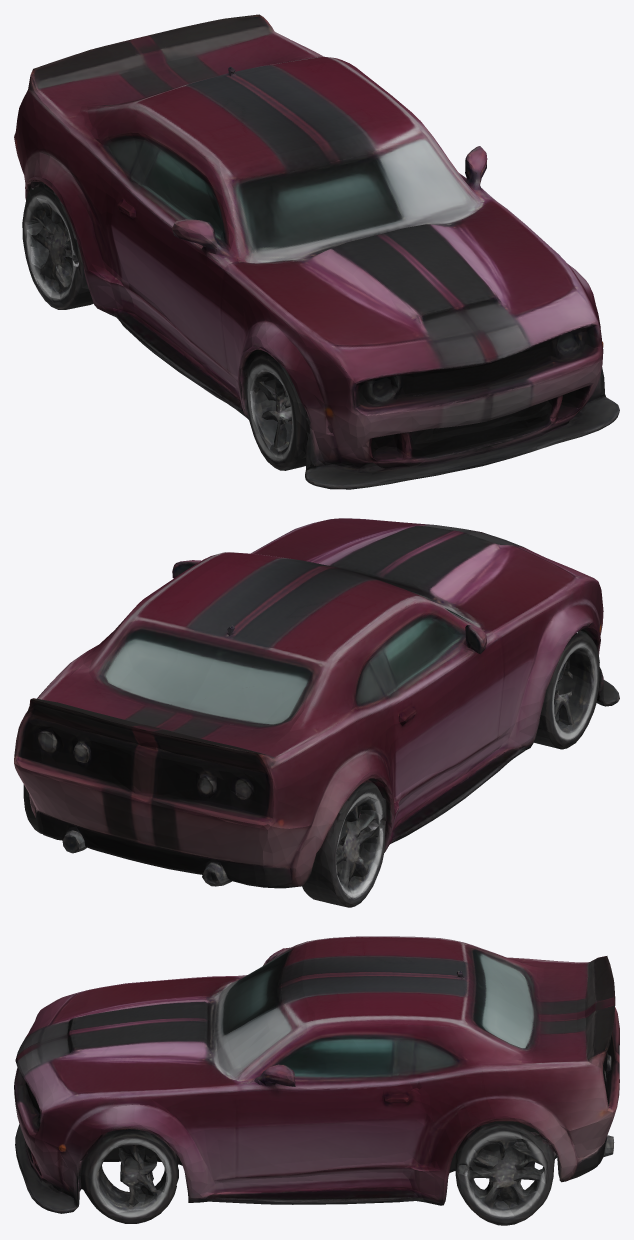
Rendered from 785e4fba-1787-4d39-b3c4-4039832029b2.glb.
3 renders of one model, top to bottom at view 1: azimuth 30°, elevation 25°; view 2: azimuth 150°, elevation 25°; view 3: azimuth 270°, elevation 25°, orthographic. The views are drawn at different scales.
Parts seen in each view (by area): view 1: world; view 2: world; view 3: world.
Part boxes in pixels (x1,y1,x2,y2): world: (14,14,619,489); world: (14,518,619,907); world: (14,936,619,1225).
Size of the model in its own units: 0.5211 by 0.3494 by 0.999.
1 material, 1 textured.
